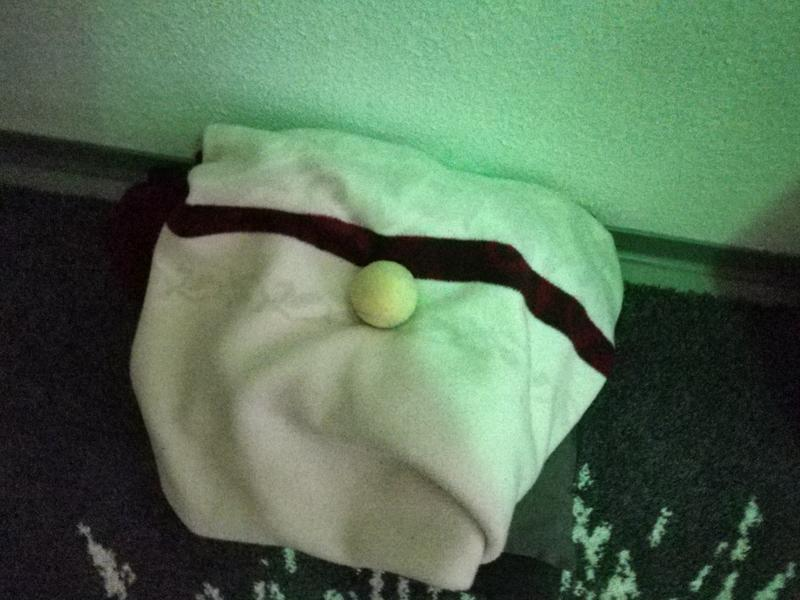Tennisball: (351, 258, 419, 329)
